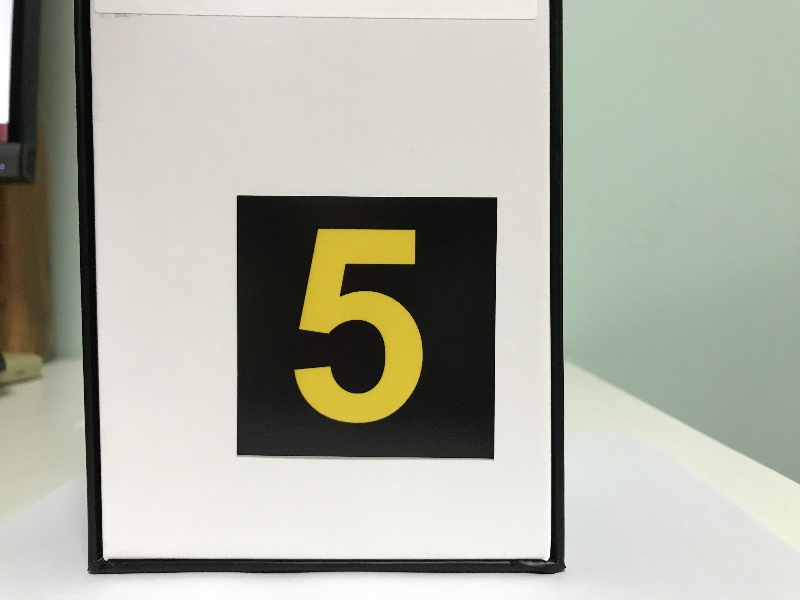Five-10: (239, 198, 492, 455)
